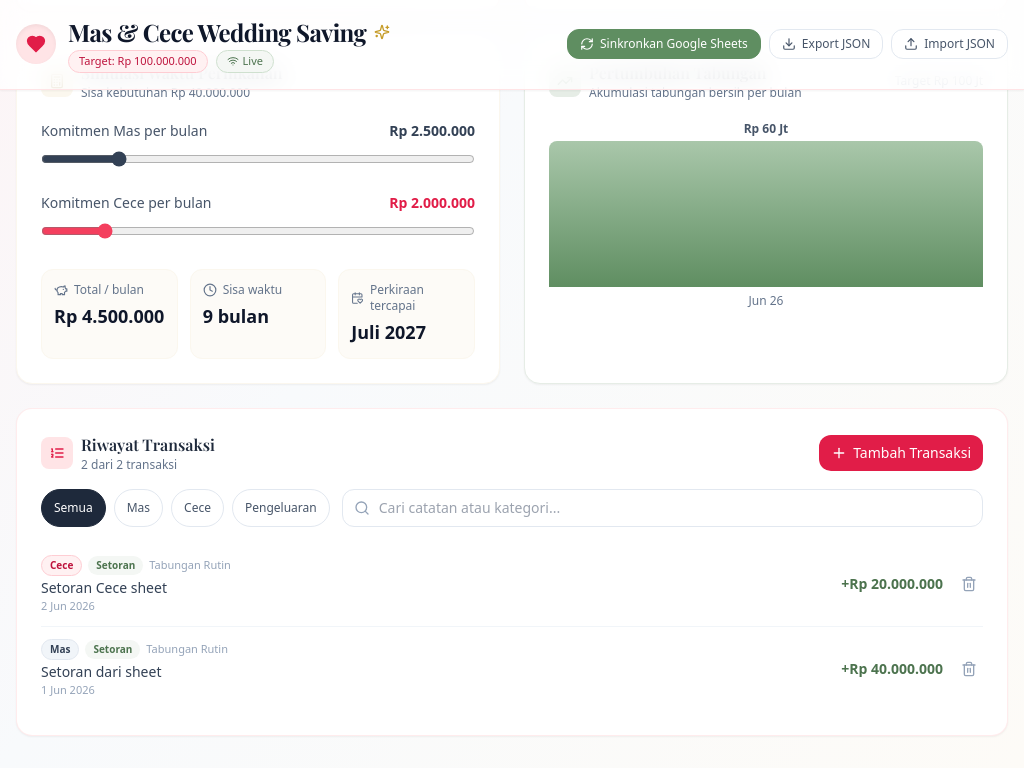
Scenario: App Component › with Google Sheet write enabled › saves a new transaction to the Sheet and shows it
(page scrolled)
Expected: the element with test id "sync-status" reads "Live", [243,53,263,68]
Click the button "Tambah Transaksi": (901,452) [819,434,983,470]
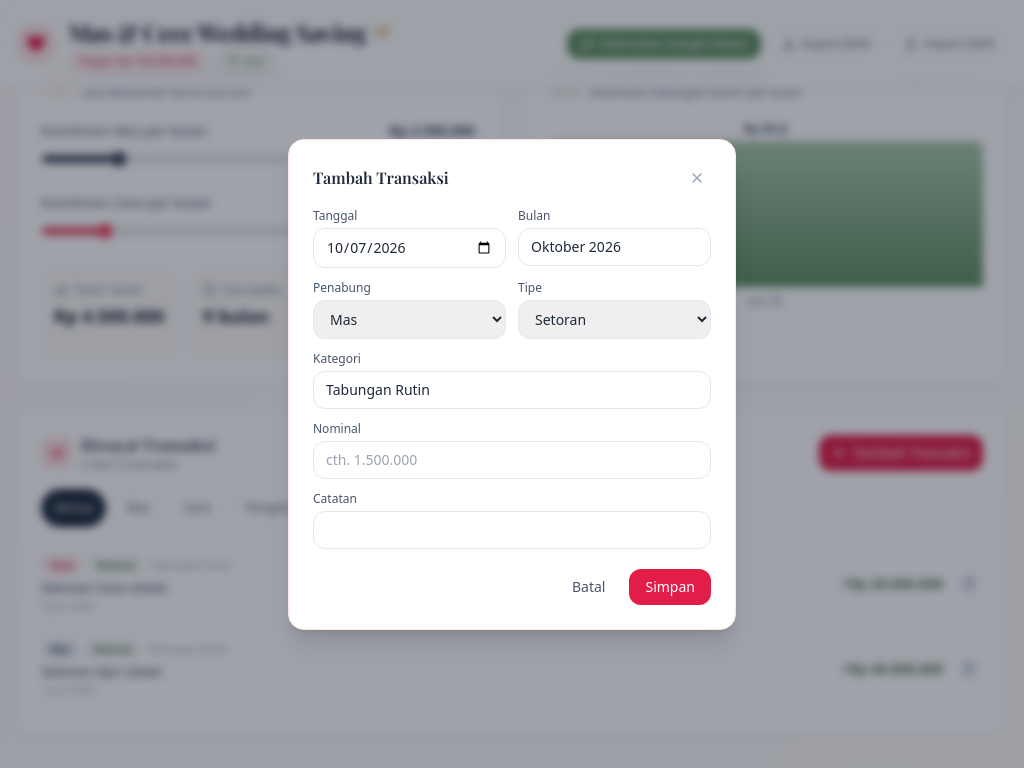
In the field labelled "Nominal": (512,460) [313,440,711,478], type "1000000"
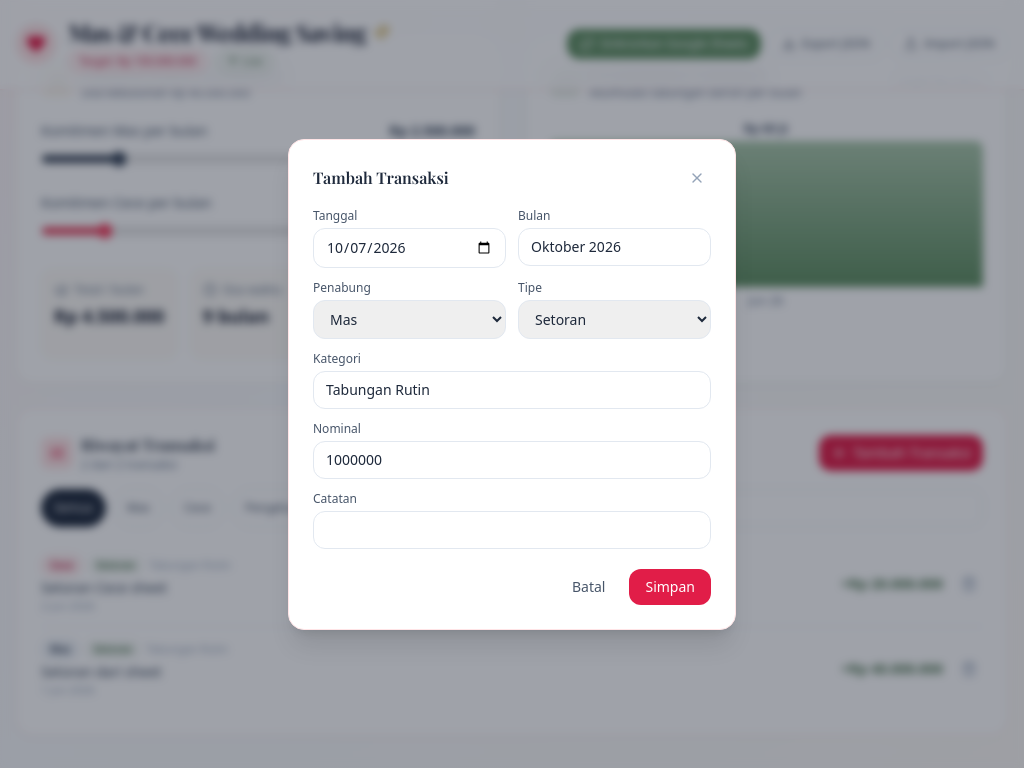
In the field labelled "Catatan": (512,530) [313,510,711,548], type "Setoran ke sheet"
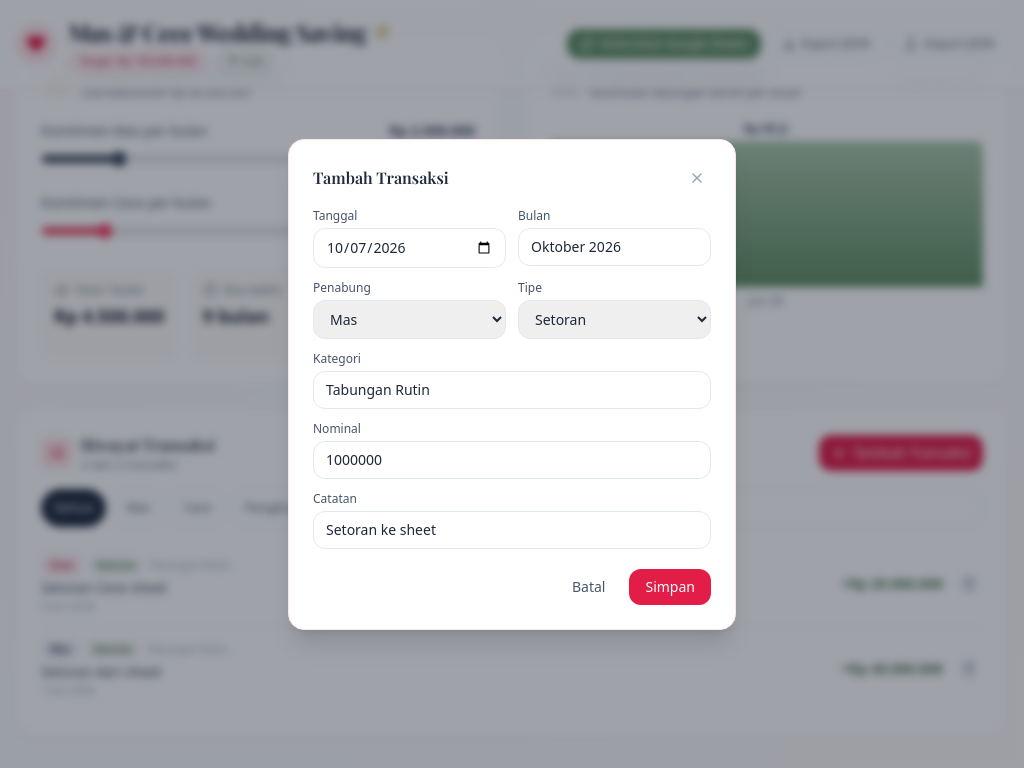
Click the button "Simpan": (670,586) [630,568,711,604]
(page scrolled)
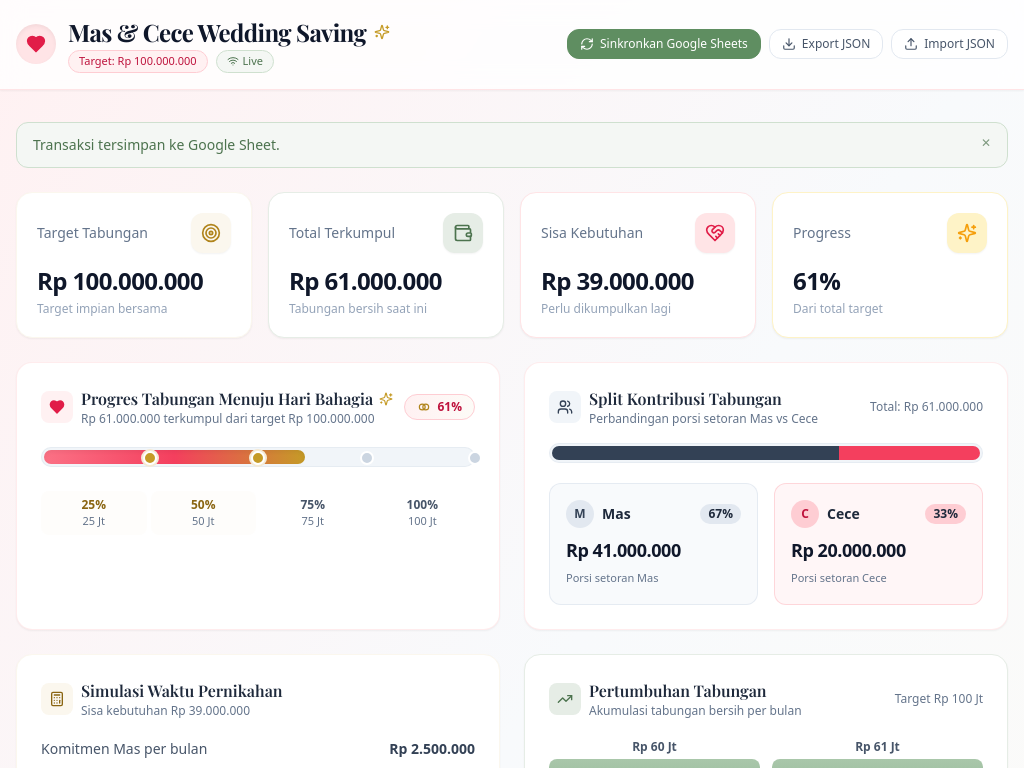
Now the message shows "tersimpan ke Google Sheet", box [33,134,280,154]
Now the dialog is gone
